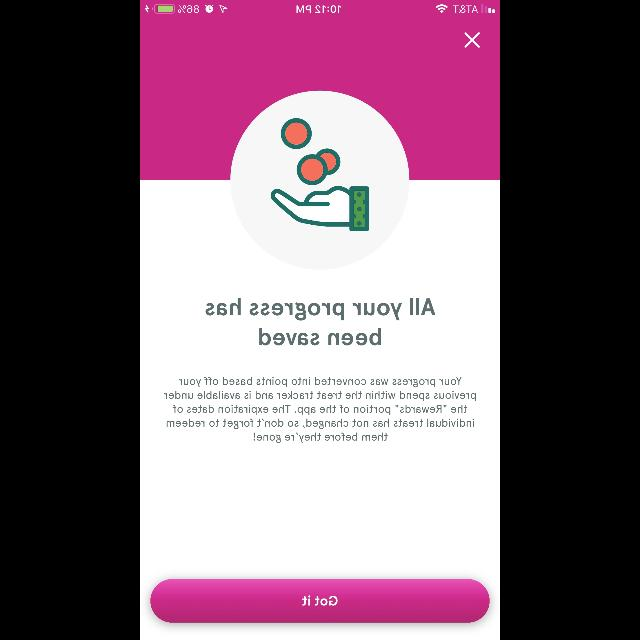icon: (464, 32, 480, 48)
image: (271, 118, 369, 232)
text: (164, 377, 476, 443), (205, 298, 435, 346)
textbutton: (150, 579, 490, 623)
uppertaskbar: (140, 0, 500, 14)
